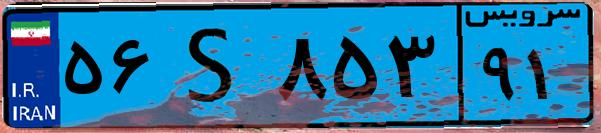1: (525, 38, 570, 115)
3: (385, 28, 445, 110)
5: (330, 28, 385, 110), (57, 26, 110, 100)
6: (110, 28, 158, 98)
8: (270, 28, 330, 110)
9: (475, 38, 525, 113)
S: (158, 12, 270, 120)
